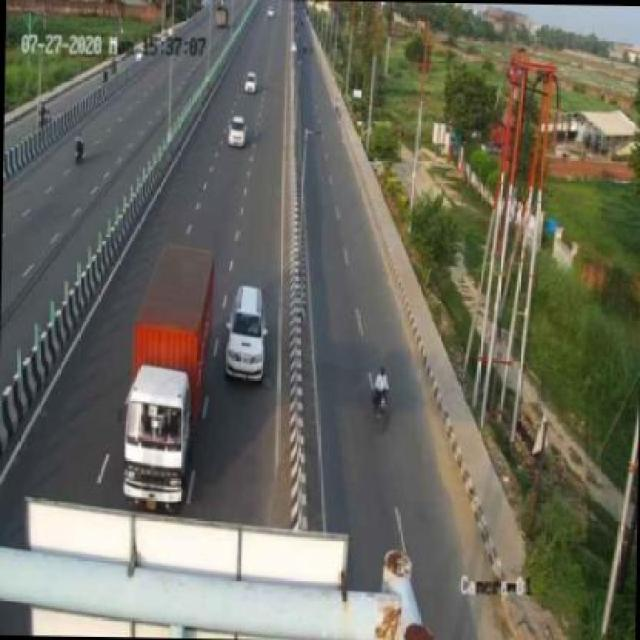car: (222, 278, 272, 384), (225, 117, 246, 148)
